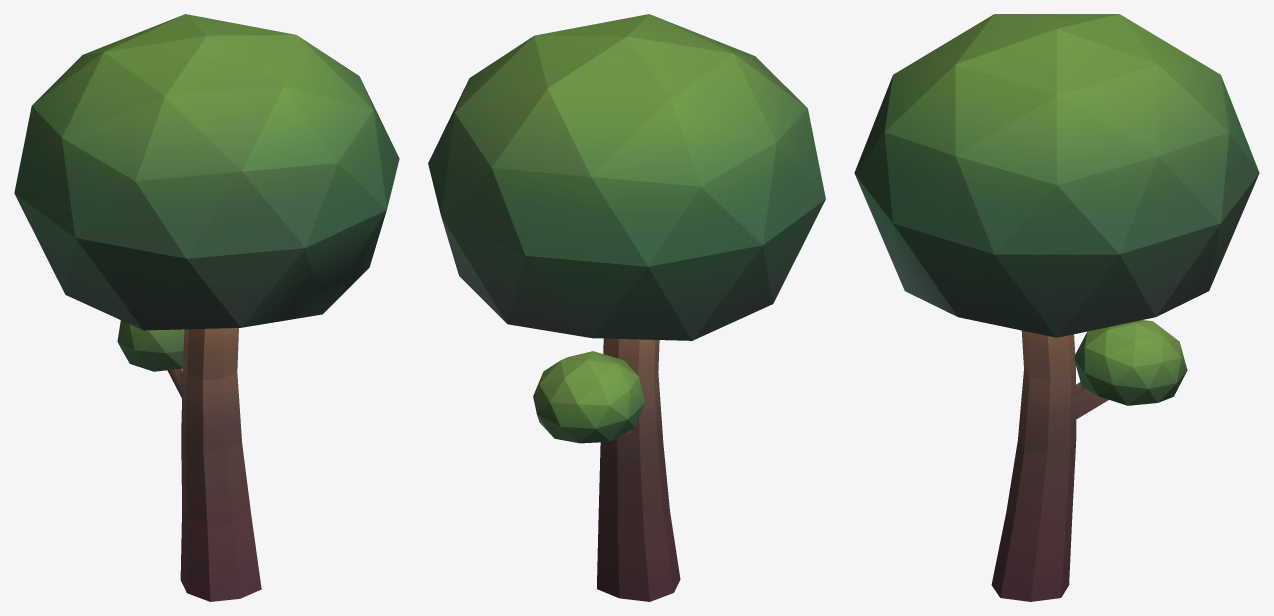
The model's file is Art_Test.fbx.
3 views of the same model, side by side, from view 1: azimuth 30°, elevation 25°; view 2: azimuth 150°, elevation 25°; view 3: azimuth 270°, elevation 25° (orthographic). The views are drawn at different scales.
Visible parts, largest first — view 1: Tree; view 2: Tree; view 3: Tree.
Boxes of the visible parts, box(x1,y1,x2,y2) form: Tree: box(14, 14, 399, 601); Tree: box(428, 14, 825, 601); Tree: box(854, 14, 1259, 601).
Size of the model in its own units: 4.85 by 7.71 by 5.1.
1 material, 1 textured.
